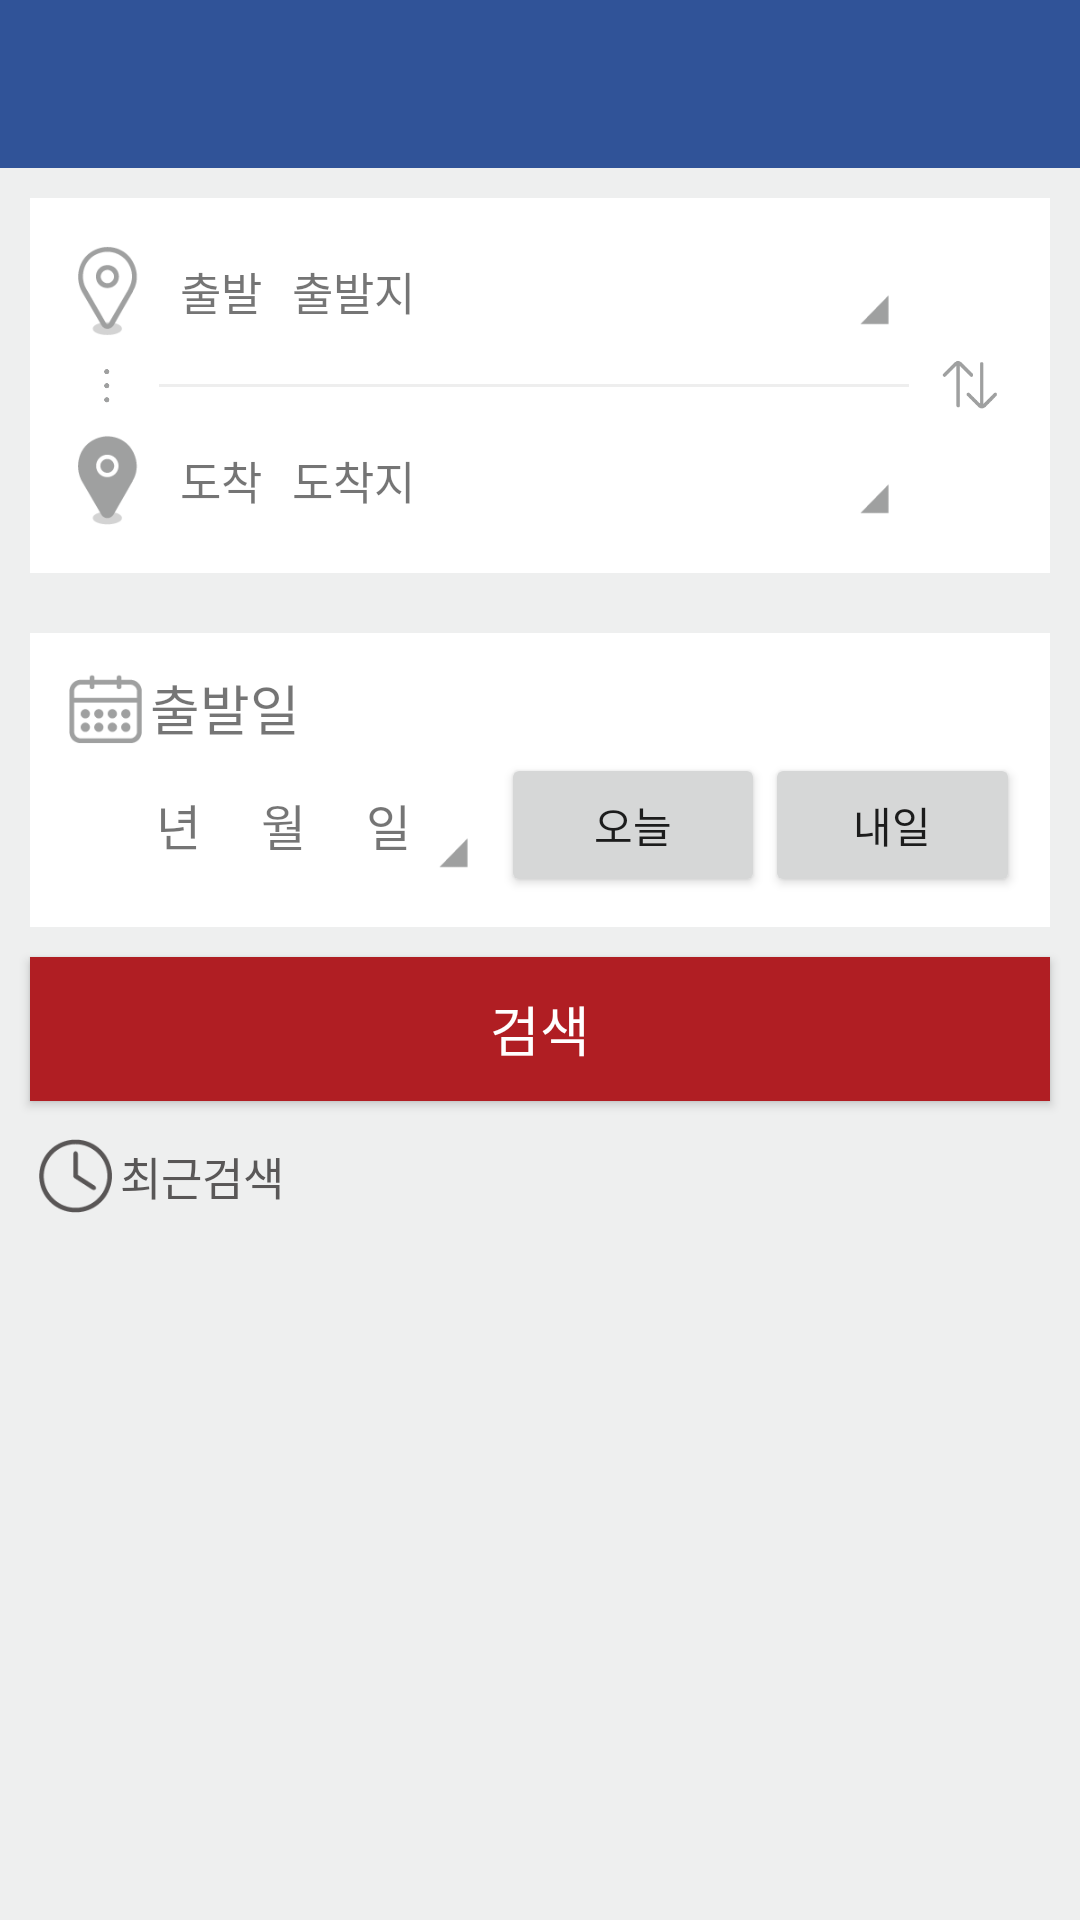

Named icons in this screenshot (1080w x 1920h) and their centers, (x,y):
arrive: (107,480)
calendar: (105,709)
change dep arr: (970,385)
cur search: (75,1176)
depart: (107,291)
